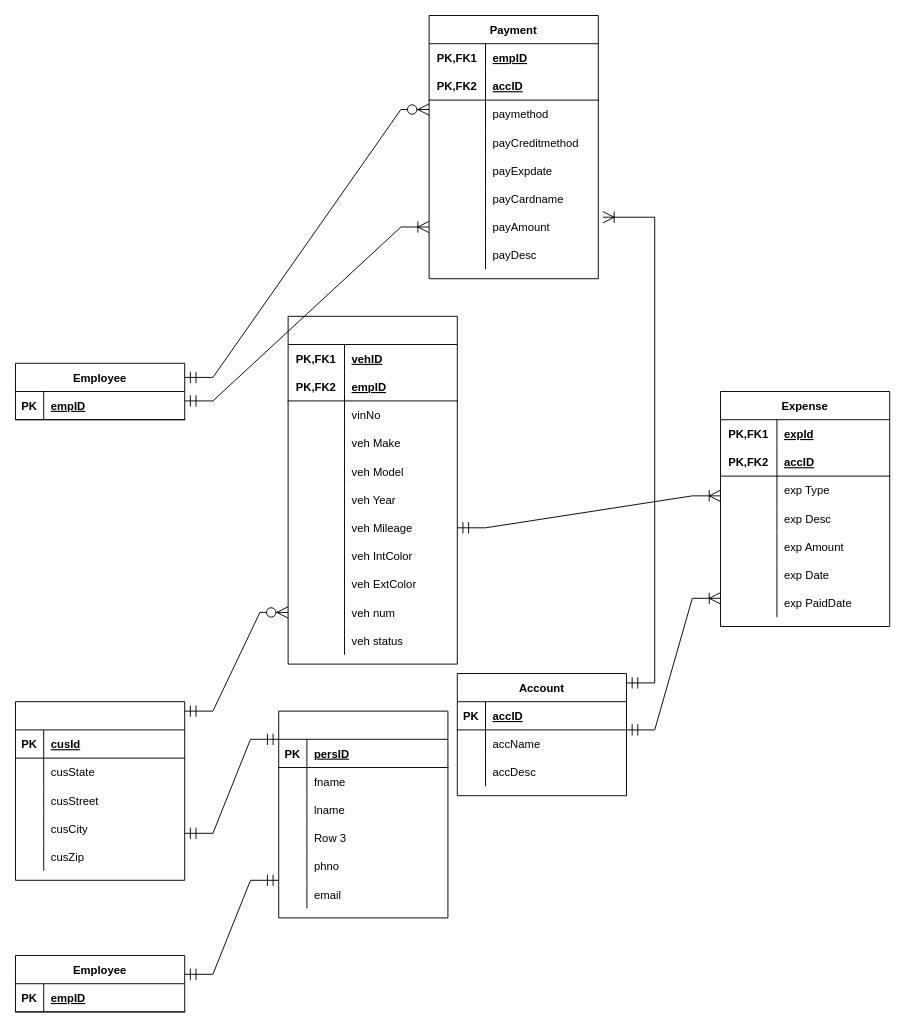
This 905x1027 diagram has some shape labels left out. The box of each missing label's shape, as (x1, y1, x2, y2) in pixels:
Customer: (15, 701, 185, 880)
PersonData: (278, 710, 448, 918)
Vehicle: (287, 315, 457, 664)
